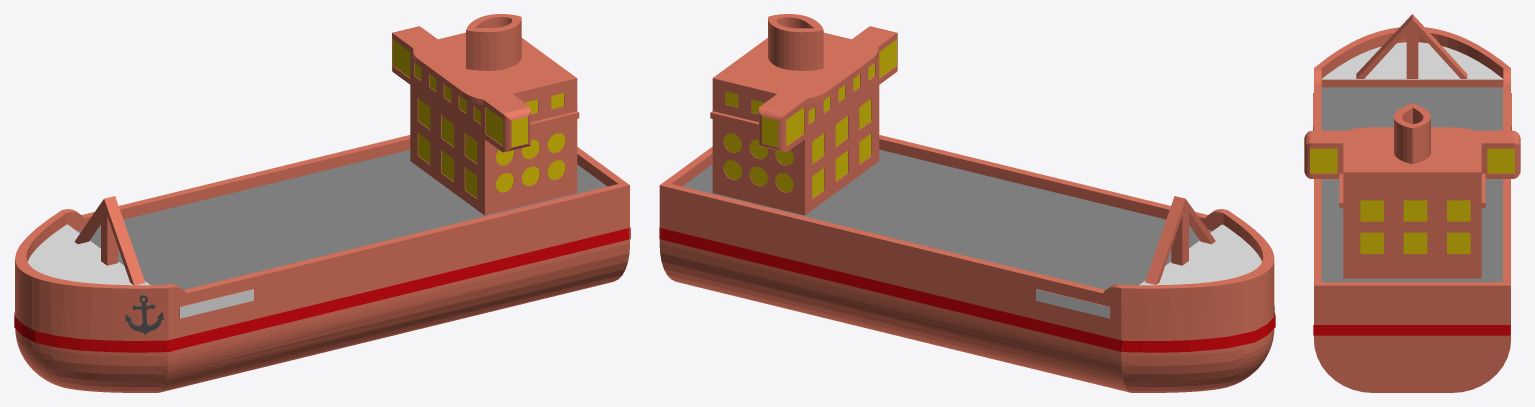
Rendered from bateau_transport.fbx.
3 renders of one model, left to right at view 1: azimuth 30°, elevation 25°; view 2: azimuth 150°, elevation 25°; view 3: azimuth 270°, elevation 25°, orthographic. The views are drawn at different scales.
Visible parts, largest first — view 1: bateau_transport, PontBateau, BandeCoqueDroite, PontAvant, VitreAvant, BandeCoqueAvant, VitreDroite, NomBateauCoteDroit, ancre; view 2: bateau_transport, PontBateau, BandeCoqueGauche, PontAvant, VitreAvant, VitreGauche, BandeCoqueAvant, NomBateauCoteGauche; view 3: bateau_transport, PontBateau, PontAvant, VitreArriere, BandeCoqueArriere, VitreArrierePlateformeObservation.
Part boxes in pixels (bbox=[...]): bateau_transport: bbox=[15, 14, 629, 392]; PontBateau: bbox=[77, 150, 607, 289]; BandeCoqueDroite: bbox=[167, 228, 629, 351]; PontAvant: bbox=[27, 224, 150, 285]; VitreAvant: bbox=[392, 39, 503, 198]; BandeCoqueAvant: bbox=[14, 312, 174, 352]; VitreDroite: bbox=[496, 93, 565, 192]; NomBateauCoteDroit: bbox=[180, 289, 253, 318]; ancre: bbox=[125, 295, 163, 335]; bateau_transport: bbox=[659, 14, 1274, 392]; PontBateau: bbox=[682, 149, 1212, 289]; BandeCoqueGauche: bbox=[660, 228, 1121, 351]; PontAvant: bbox=[1139, 224, 1261, 285]; VitreAvant: bbox=[786, 39, 896, 198]; VitreGauche: bbox=[724, 91, 793, 192]; BandeCoqueAvant: bbox=[1118, 306, 1275, 352]; NomBateauCoteGauche: bbox=[1036, 289, 1109, 318]; bateau_transport: bbox=[1304, 14, 1520, 392]; PontBateau: bbox=[1321, 87, 1502, 282]; PontAvant: bbox=[1322, 42, 1503, 79]; VitreArriere: bbox=[1360, 200, 1470, 253]; BandeCoqueArriere: bbox=[1313, 325, 1510, 335]; VitreArrierePlateformeObservation: bbox=[1310, 148, 1514, 173].
Size of the model in its own units: 15021 by 6700 by 5487.
